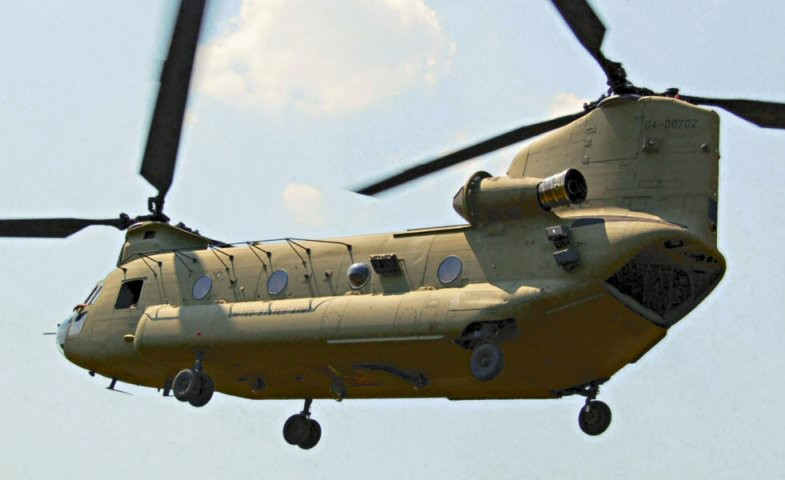chinook: (29, 27, 772, 447)
